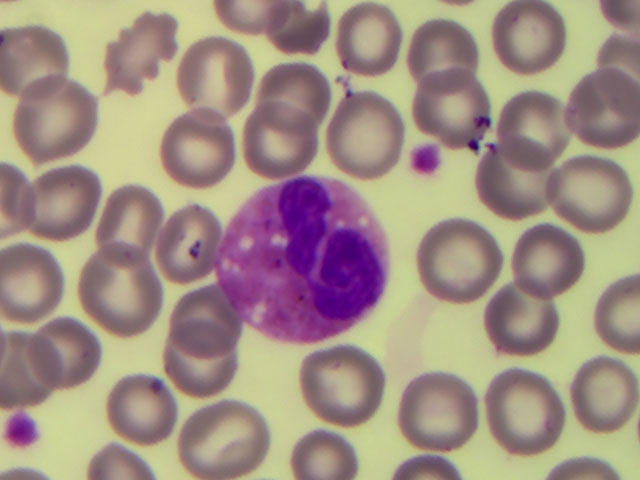RBC: (414, 222, 498, 303), (84, 251, 162, 332), (546, 160, 638, 228), (487, 372, 563, 454), (298, 350, 385, 421), (101, 11, 177, 92), (493, 1, 569, 82), (156, 325, 243, 395), (338, 91, 404, 183), (189, 401, 268, 475), (18, 77, 97, 147), (485, 282, 559, 355), (482, 142, 558, 213), (517, 223, 587, 297), (410, 13, 478, 89), (568, 361, 640, 431), (401, 377, 474, 446), (177, 42, 247, 113), (571, 72, 640, 144), (498, 91, 568, 161), (5, 24, 68, 99), (247, 107, 320, 171), (25, 173, 101, 234), (163, 114, 231, 182), (168, 289, 235, 356), (259, 64, 327, 128), (339, 8, 401, 77), (420, 76, 489, 138), (31, 319, 97, 383), (106, 185, 160, 260), (286, 428, 359, 480), (115, 378, 173, 443), (594, 275, 640, 351), (1, 245, 57, 307), (4, 334, 56, 399), (266, 1, 326, 49), (83, 440, 151, 480), (1, 162, 33, 231), (391, 460, 471, 480), (207, 1, 260, 30), (609, 30, 640, 76), (592, 1, 638, 31)
WBC: (232, 175, 387, 333)
platelets: (2, 414, 42, 451), (414, 144, 436, 173)
